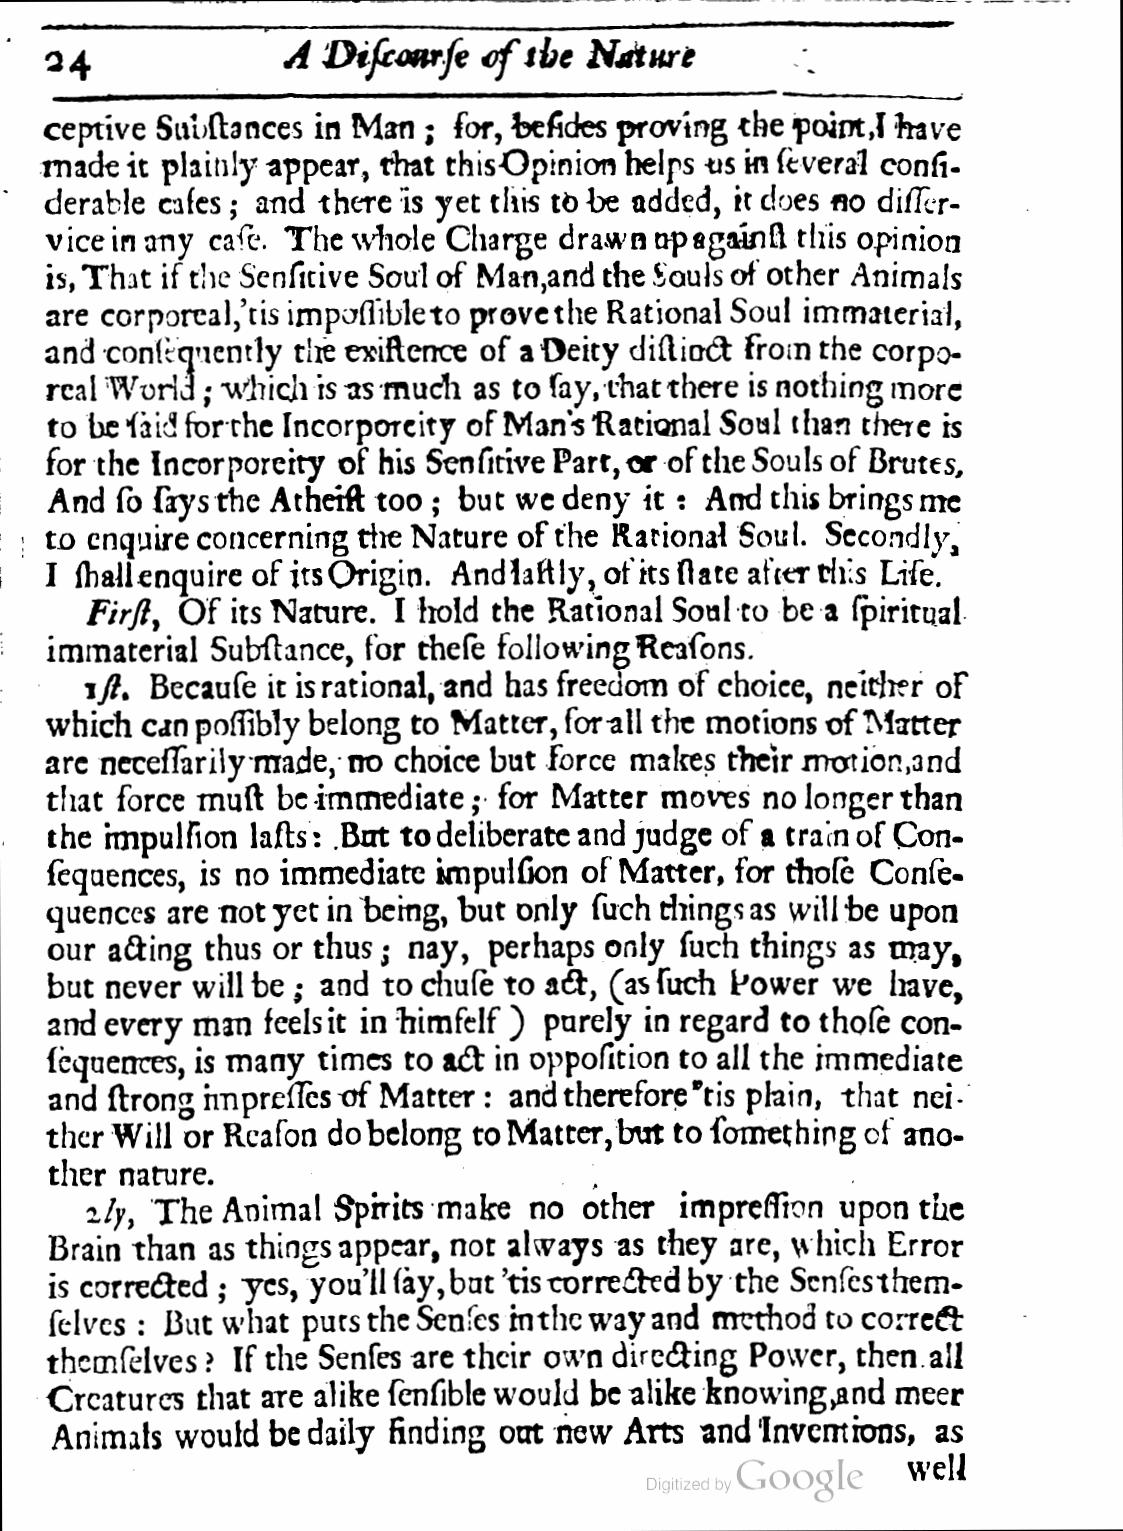bottom_p: (40, 103, 978, 597)
catchword: (894, 1450, 978, 1498)
full_p: (40, 664, 983, 1191), (40, 598, 980, 663)
header: (270, 31, 706, 84)
page_num: (37, 46, 97, 81)
top_p: (37, 1193, 980, 1453)
